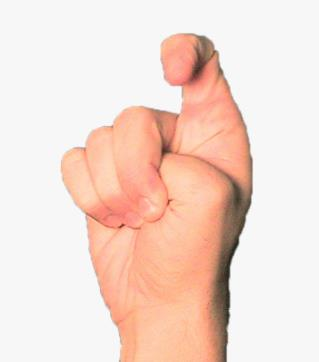anticlockwise: (49, 25, 261, 312)
